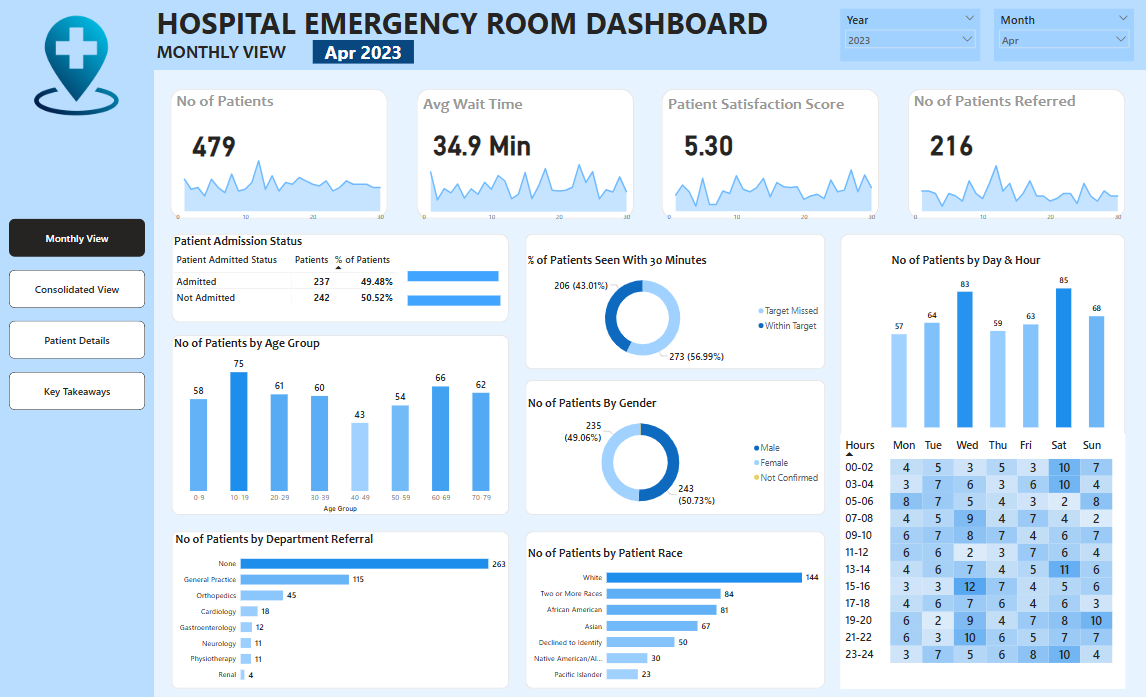

The page's visual inventory and layout, read from the dashboard file:
{"tool":"powerbi","page":{"name":"Monthly View","canvas":[2300,1400],"ordinal":0},"visuals":[{"type":"shape","box":[0,0,310,1400],"z":0},{"type":"shape","box":[310,0,1990,140],"z":1000},{"type":"textbox","box":[310,0,1242.5,105],"z":2000},{"type":"shape","box":[343.5,176.5,435,260],"z":3000},{"type":"textbox","box":[310,75,290,65],"z":4000},{"type":"card","fields":{"Values":["Hospital ER_Data.No of Patients"]},"box":[343.5,241.5,175,87.5],"z":5000},{"type":"slicer","fields":{"Values":["Date Table.Year"]},"box":[1682.5,17.5,280,105],"z":6000},{"type":"slicer","fields":{"Values":["Date Table.Month"]},"box":[1990,17.5,280,105],"z":7000},{"type":"textbox","box":[343.5,176.5,290,65],"z":8000},{"type":"areaChart","fields":{"Category":["Date Table.Date.Variation.Date Hierarchy.Day"],"Y":["Hospital ER_Data.No of Patients"]},"box":[343.5,306.5,435,145],"z":9000},{"type":"card","fields":{"Values":["Min(Date Table.Month & Year)"]},"box":[627.5,80,202.5,47.5],"z":10000},{"type":"shape","box":[834.8,177.5,435,260],"z":11000},{"type":"card","fields":{"Values":["Hospital ER_Data.Avg wait time"]},"box":[835.6,240,262.2,86.7],"z":12000},{"type":"textbox","box":[835,177.5,290,65],"z":13000},{"type":"areaChart","fields":{"Category":["Date Table.Date.Variation.Date Hierarchy.Day"],"Y":["Avg(Hospital ER_Data.Patient Waittime)"]},"box":[835,307.5,435,145],"z":14000},{"type":"shape","box":[1326.2,177.5,435,260],"z":15000},{"type":"card","fields":{"Values":["Hospital ER_Data.AVG Patient Satisfaction Score"]},"box":[1324.4,240,186.7,86.7],"z":16000},{"type":"textbox","box":[1324.4,177.8,411.1,64.4],"z":17000},{"type":"areaChart","fields":{"Category":["Date Table.Date.Variation.Date Hierarchy.Day"],"Y":["Sum(Hospital ER_Data.Patient Satisfaction Score)"]},"box":[1325,307.5,435,145],"z":18000},{"type":"shape","box":[1817.5,177.5,435,260],"z":19000},{"type":"card","fields":{"Values":["Hospital ER_Data.Patients referred"]},"box":[1817.5,240,175,87.5],"z":20000},{"type":"textbox","box":[1817.8,177.8,400,64.4],"z":21000},{"type":"areaChart","fields":{"Category":["Date Table.Date.Variation.Date Hierarchy.Day"],"Y":["Hospital ER_Data.Patients referred"]},"box":[1817.5,307.5,435,145],"z":22000},{"type":"shape","box":[344.4,466.7,675.6,177.8],"z":23000},{"type":"pivotTable","title":"Patient Admission Status","fields":{"Rows":["Hospital ER_Data.Patient Admitted Status"],"Values":["Hospital ER_Data.No of Patients1","Divide(Hospital ER_Data.No of Patients, ScopedEval(Hospital ER_Data.No of Patients, []))"]},"box":[344.4,466.7,675.6,177.8],"z":24000},{"type":"barChart","fields":{"Category":["Hospital ER_Data.Patient Admitted Status"],"Y":["Hospital ER_Data.No of Patients"]},"box":[813.3,504.4,240,140],"z":25000},{"type":"shape","box":[344.4,671.1,675.6,360],"z":26000},{"type":"clusteredColumnChart","fields":{"Category":["Hospital ER_Data.Age Group"],"Y":["Hospital ER_Data.No of Patients"]},"box":[344.4,671.1,675.6,360],"z":27000},{"type":"shape","box":[344.4,1062.2,675.6,315.6],"z":28000},{"type":"clusteredBarChart","fields":{"Category":["Hospital ER_Data.Department Referral"],"Y":["Hospital ER_Data.No of Patients"]},"box":[346.7,1062.2,673.3,315.6],"z":29000},{"type":"shape","box":[1053.3,466.7,600,271.1],"z":30000},{"type":"donutChart","title":"% of Patients Seen With 30 Minutes","fields":{"Category":["Hospital ER_Data.Wait time status"],"Y":["Hospital ER_Data.No of Patients"]},"box":[1052.5,505,600,232.5],"z":31000},{"type":"shape","box":[1052.5,760,600,270],"z":32000},{"type":"donutChart","title":"No of Patients By Gender","fields":{"Category":["Hospital ER_Data.Patient Gender"],"Y":["Hospital ER_Data.No of Patients"]},"box":[1052.5,790,600,240],"z":33000},{"type":"shape","box":[1052.5,1062.5,600,315],"z":34000},{"type":"clusteredBarChart","fields":{"Y":["Hospital ER_Data.No of Patients"],"Category":["Hospital ER_Data.Patient Race"]},"box":[1052.5,1090,600,287.5],"z":35000},{"type":"shape","box":[1682.5,467.5,570,910],"z":36000},{"type":"pivotTable","fields":{"Rows":["Hospital ER_Data.Wait Time Interval"],"Columns":["Date Table.Day name"],"Values":["Hospital ER_Data.No of Patients"]},"box":[1682,868,570,510],"z":37000},{"type":"columnChart","title":"No of Patients by Day & Hour","fields":{"Category":["Date Table.Day name"],"Y":["Hospital ER_Data.No of Patients"]},"box":[1780,506,438,356],"z":38000},{"type":"image","box":[50,17.5,210,227.5],"z":39000},{"type":"pageNavigator","box":[20,437.5,272.5,385],"z":40000}]}

Visuals, with their boxes in screenshot pixels (x1, y1, x2, y2), scaled from the page's 2300x1400 canvas onto the 1146x697 screenshot:
shape: <bbox>0, 0, 154, 696</bbox>
shape: <bbox>154, 0, 1145, 70</bbox>
textbox: <bbox>154, 0, 774, 52</bbox>
shape: <bbox>171, 88, 388, 217</bbox>
textbox: <bbox>154, 37, 299, 70</bbox>
card - Hospital ER_Data.No of Patients: <bbox>171, 120, 258, 164</bbox>
slicer - Date Table.Year: <bbox>838, 9, 978, 61</bbox>
slicer - Date Table.Month: <bbox>992, 9, 1131, 61</bbox>
textbox: <bbox>171, 88, 316, 120</bbox>
areaChart - Date Table.Date.Variation.Date Hierarchy.Day x Hospital ER_Data.No of Patients: <bbox>171, 153, 388, 225</bbox>
card - Min(Date Table.Month & Year): <bbox>313, 40, 414, 63</bbox>
shape: <bbox>416, 88, 633, 218</bbox>
card - Hospital ER_Data.Avg wait time: <bbox>416, 119, 547, 163</bbox>
textbox: <bbox>416, 88, 561, 121</bbox>
areaChart - Date Table.Date.Variation.Date Hierarchy.Day x Avg(Hospital ER_Data.Patient Waittime): <bbox>416, 153, 633, 225</bbox>
shape: <bbox>661, 88, 878, 218</bbox>
card - Hospital ER_Data.AVG Patient Satisfaction Score: <bbox>660, 119, 753, 163</bbox>
textbox: <bbox>660, 89, 865, 121</bbox>
areaChart - Date Table.Date.Variation.Date Hierarchy.Day x Sum(Hospital ER_Data.Patient Satisfaction Score): <bbox>660, 153, 877, 225</bbox>
shape: <bbox>906, 88, 1122, 218</bbox>
card - Hospital ER_Data.Patients referred: <bbox>906, 119, 993, 163</bbox>
textbox: <bbox>906, 89, 1105, 121</bbox>
areaChart - Date Table.Date.Variation.Date Hierarchy.Day x Hospital ER_Data.Patients referred: <bbox>906, 153, 1122, 225</bbox>
shape: <bbox>172, 232, 508, 321</bbox>
"Patient Admission Status" pivotTable: <bbox>172, 232, 508, 321</bbox>
barChart - Hospital ER_Data.Patient Admitted Status x Hospital ER_Data.No of Patients: <bbox>405, 251, 525, 321</bbox>
shape: <bbox>172, 334, 508, 513</bbox>
clusteredColumnChart - Hospital ER_Data.Age Group x Hospital ER_Data.No of Patients: <bbox>172, 334, 508, 513</bbox>
shape: <bbox>172, 529, 508, 686</bbox>
clusteredBarChart - Hospital ER_Data.Department Referral x Hospital ER_Data.No of Patients: <bbox>173, 529, 508, 686</bbox>
shape: <bbox>525, 232, 824, 367</bbox>
"% of Patients Seen With 30 Minutes" donutChart: <bbox>524, 251, 823, 367</bbox>
shape: <bbox>524, 378, 823, 513</bbox>
"No of Patients By Gender" donutChart: <bbox>524, 393, 823, 513</bbox>
shape: <bbox>524, 529, 823, 686</bbox>
clusteredBarChart - Hospital ER_Data.No of Patients x Hospital ER_Data.Patient Race: <bbox>524, 543, 823, 686</bbox>
shape: <bbox>838, 233, 1122, 686</bbox>
pivotTable - Hospital ER_Data.Wait Time Interval x Date Table.Day name: <bbox>838, 432, 1122, 686</bbox>
"No of Patients by Day & Hour" columnChart: <bbox>887, 252, 1105, 429</bbox>
image: <bbox>25, 9, 130, 122</bbox>
pageNavigator: <bbox>10, 218, 146, 409</bbox>
